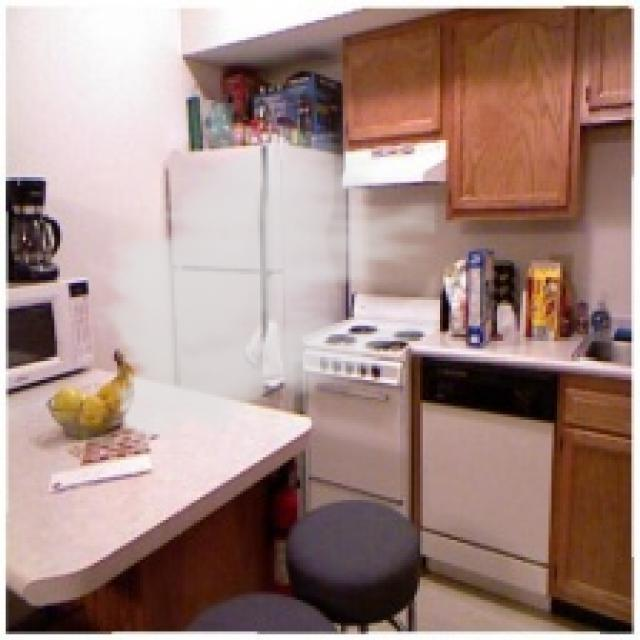Smoke: (89, 112, 438, 457)
